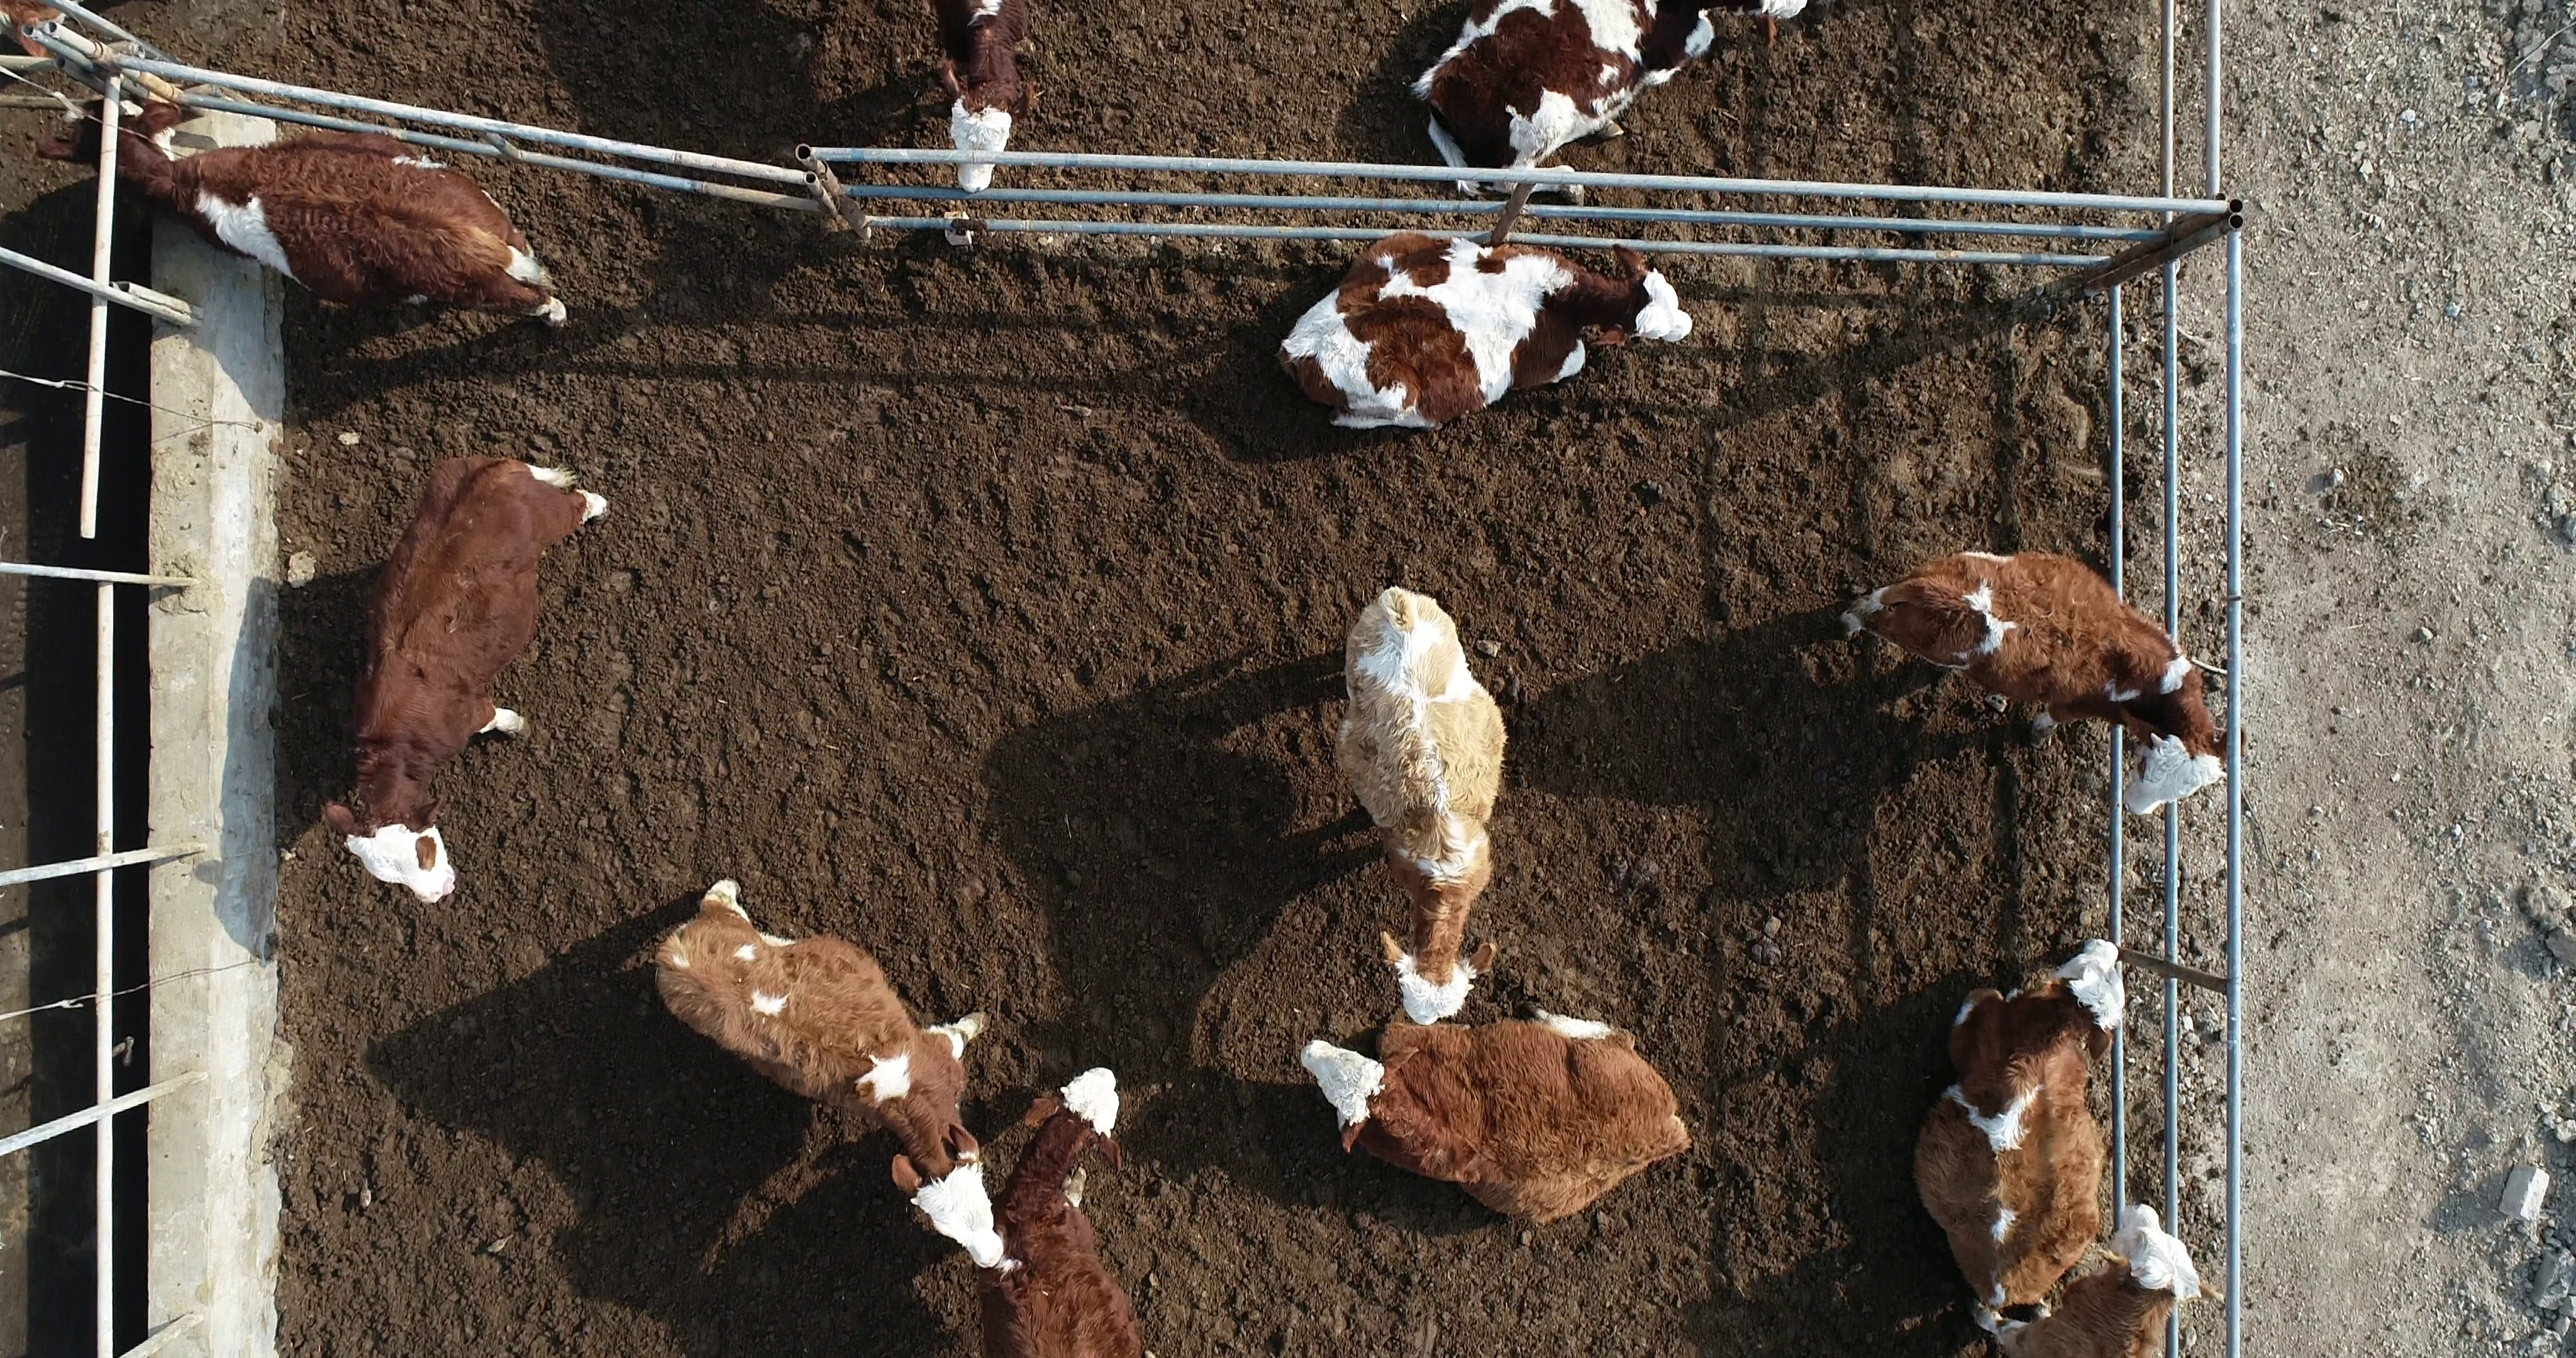cattle: (644, 878, 1009, 1276), (317, 450, 613, 912), (29, 90, 571, 337), (1831, 545, 2254, 825), (1266, 227, 1699, 443), (1298, 1002, 1702, 1230), (1903, 934, 2136, 1319), (1327, 581, 1516, 1031)
